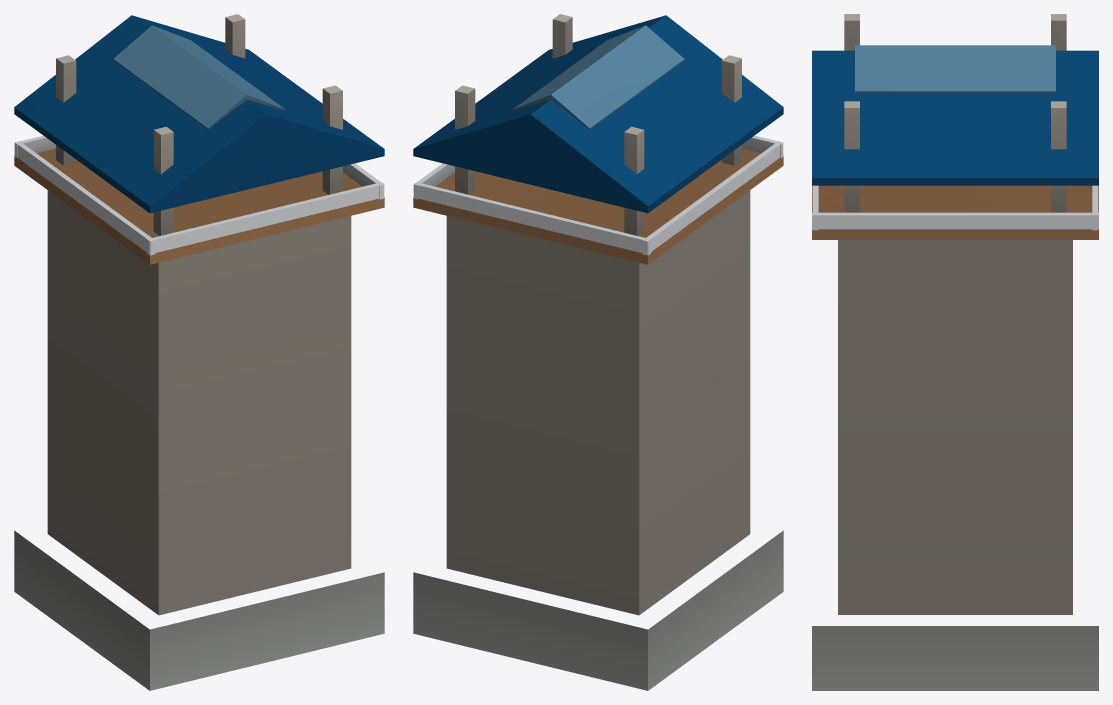
Rendered from plaza-tower.glb.
3 renders of one model, left to right at view 1: azimuth 30°, elevation 25°; view 2: azimuth 150°, elevation 25°; view 3: azimuth 270°, elevation 25°, orthographic. The views are drawn at different scales.
Parts seen in each view (by area): view 1: plaza-tower; view 2: plaza-tower; view 3: plaza-tower.
Boxes of the visible parts, x1,y1,x2,y2 form: plaza-tower: (14,14,384,690); plaza-tower: (413,14,783,690); plaza-tower: (812,14,1098,690).
Size of the model in its own units: 12 by 27 by 12.
